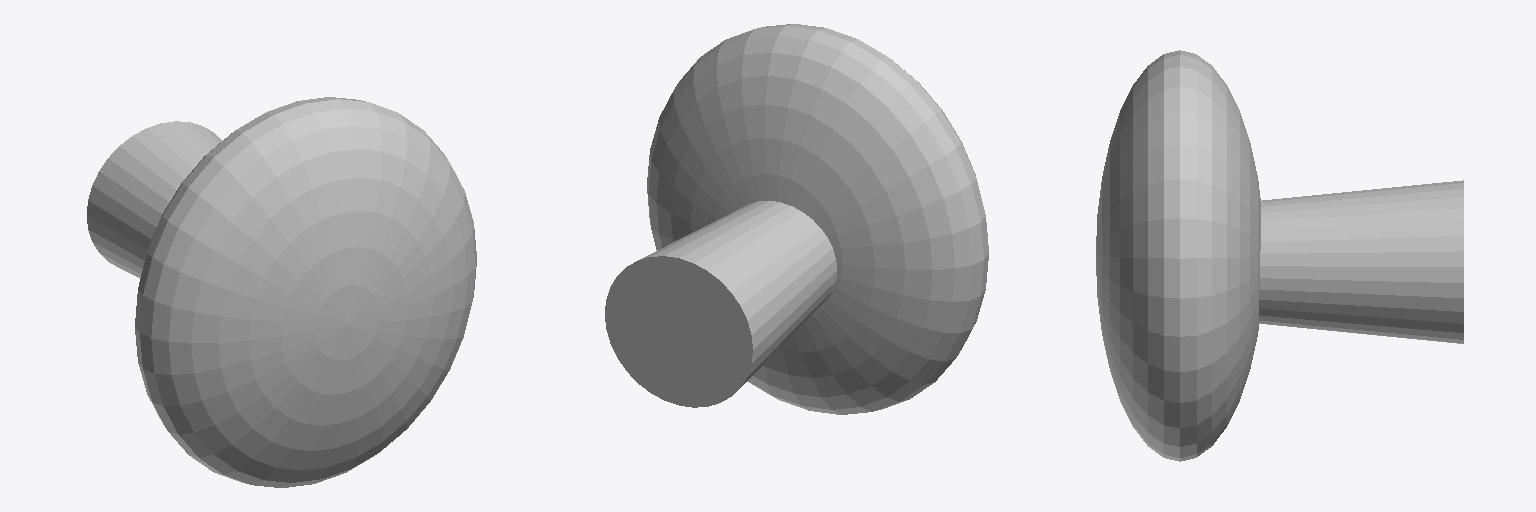
File: ObjectBrownMushroom.obj
3 renders of one model, left to right at view 1: azimuth 30°, elevation 25°; view 2: azimuth 150°, elevation 25°; view 3: azimuth 270°, elevation 25°, orthographic.
Parts seen in each view (by area): view 1: Sphere.001, Cylinder; view 2: Sphere.001, Cylinder; view 3: Sphere.001, Cylinder.
Part boxes in pixels (bbox=[...]): Sphere.001: bbox=[135, 97, 476, 487]; Cylinder: bbox=[87, 121, 221, 277]; Sphere.001: bbox=[647, 24, 988, 414]; Cylinder: bbox=[605, 201, 836, 407]; Sphere.001: bbox=[1096, 50, 1260, 461]; Cylinder: bbox=[1259, 180, 1463, 343].
Size of the model in its own units: 1.73 by 1.88 by 1.66.